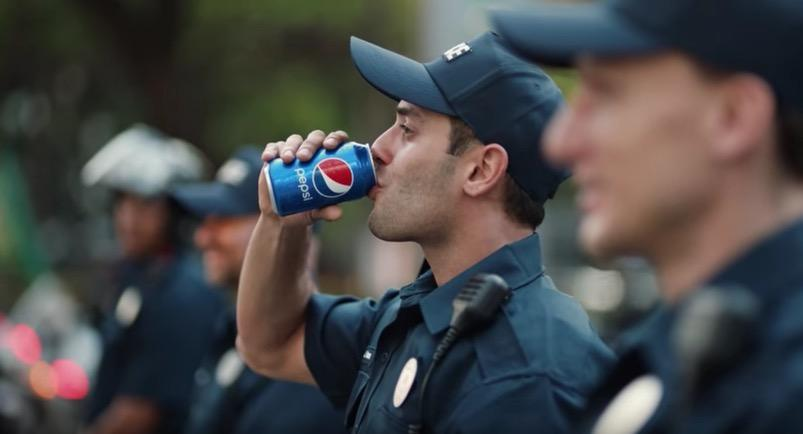pepsi: (312, 158, 353, 195)
